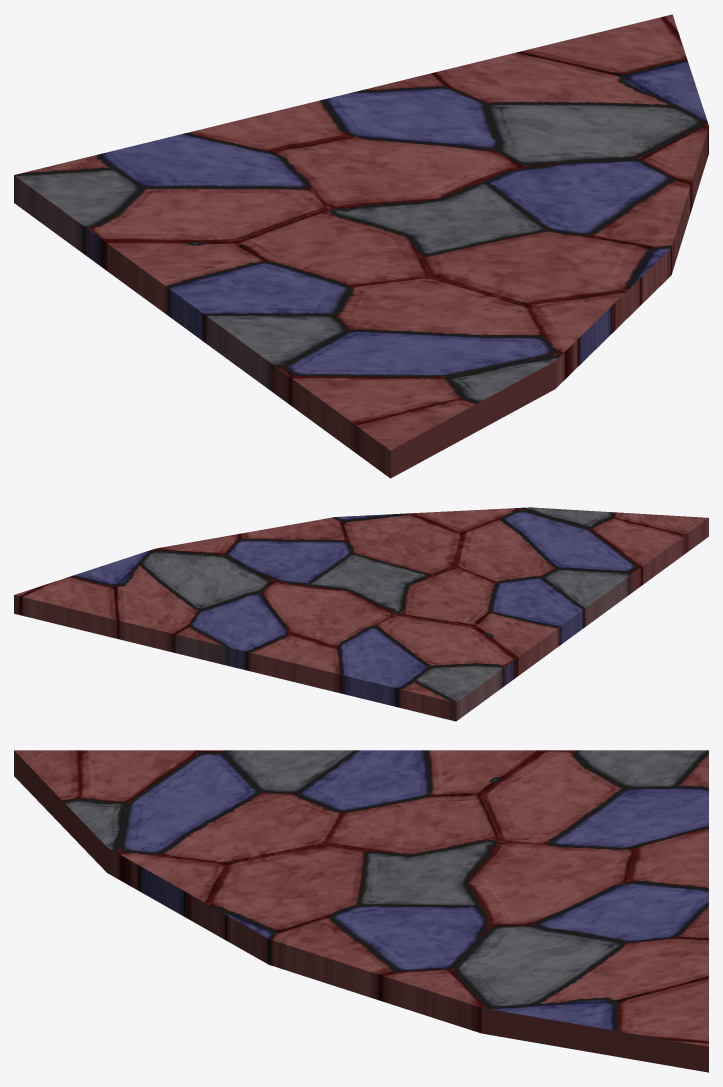
The model's file is Quarter curve Right.fbx.
3 views of the same model, one above another, from view 1: azimuth 30°, elevation 25°; view 2: azimuth 150°, elevation 25°; view 3: azimuth 270°, elevation 25° (orthographic). The views are drawn at different scales.
Parts seen in each view (by area): view 1: turn bottom right; view 2: turn bottom right; view 3: turn bottom right.
Part boxes in pixels (<box>): turn bottom right: <box>14,14,708,478</box>; turn bottom right: <box>14,507,708,721</box>; turn bottom right: <box>14,750,708,1072</box>.
Bounding box in the file's own units: 400 × 16.18 × 396.
1 material, 1 textured.
